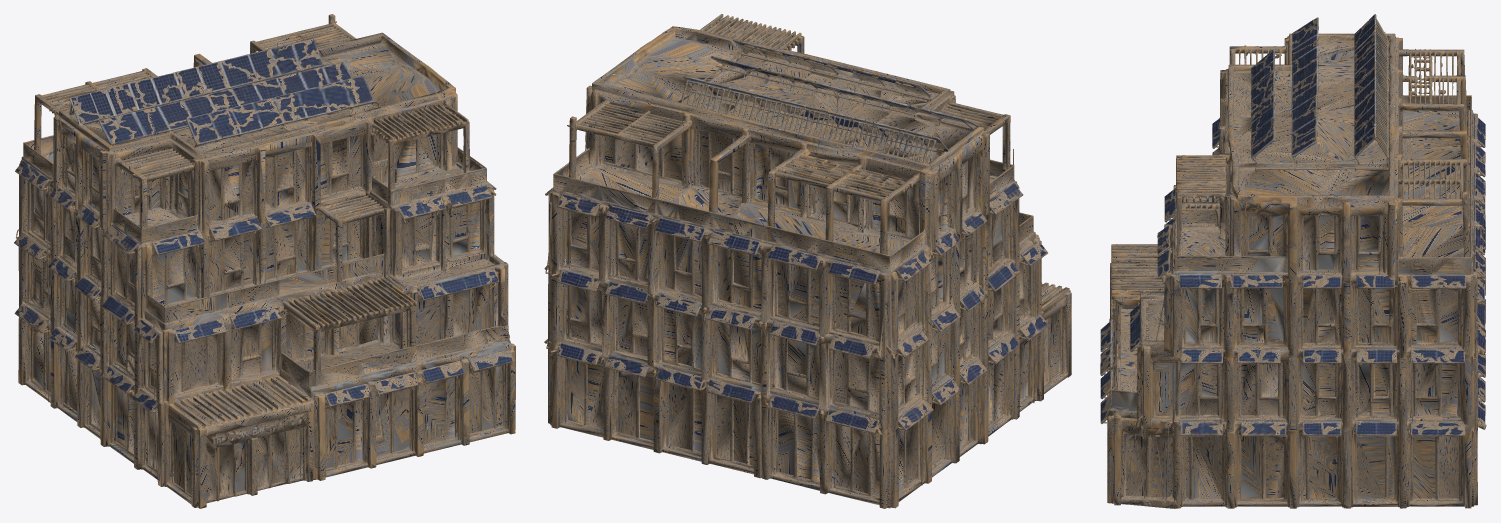
The model's file is extra.glb.
3 views of the same model, side by side, from view 1: azimuth 30°, elevation 25°; view 2: azimuth 150°, elevation 25°; view 3: azimuth 270°, elevation 25° (orthographic). The views are drawn at different scales.
Bounding box in the file's own units: 2 × 1.76 × 1.86.
Materials: 1 (1 with a texture image).
